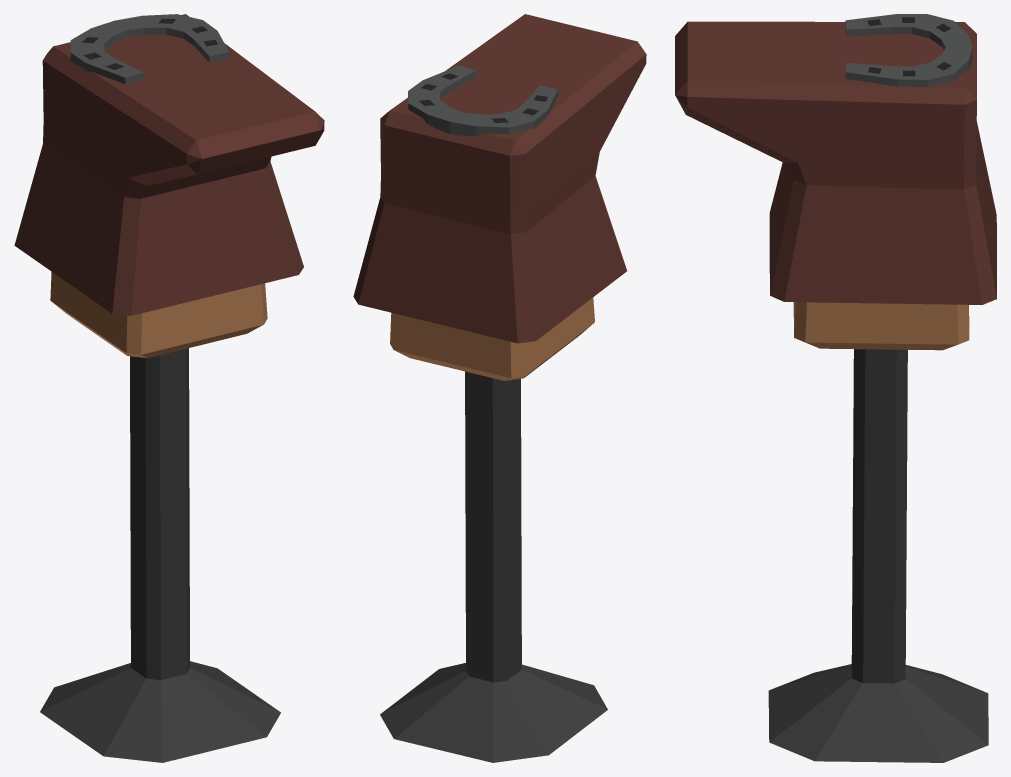
File: shoe_on_woodenfoot.fbx
The picture shows the model from 3 angles, left to right: view 1: azimuth 30°, elevation 25°; view 2: azimuth 150°, elevation 25°; view 3: azimuth 270°, elevation 25°; orthographic projection. The views are drawn at different scales.
Visible parts, largest first — view 1: shoe_on_woodenfoot; view 2: shoe_on_woodenfoot; view 3: shoe_on_woodenfoot.
Boxes of the visible parts, x1,y1,x2,y2 form: shoe_on_woodenfoot: (14, 14, 324, 762); shoe_on_woodenfoot: (353, 14, 646, 762); shoe_on_woodenfoot: (675, 14, 996, 762).
Size of the model in its own units: 15.15 by 49.57 by 21.47.
